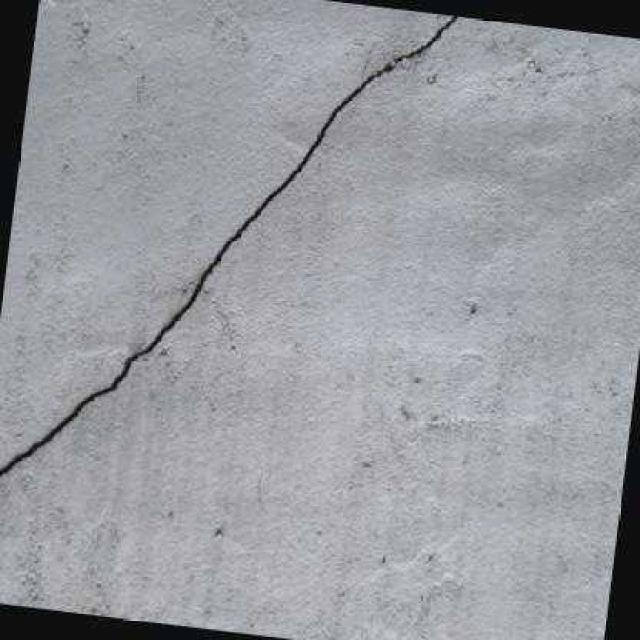D00: (0, 14, 459, 476)
